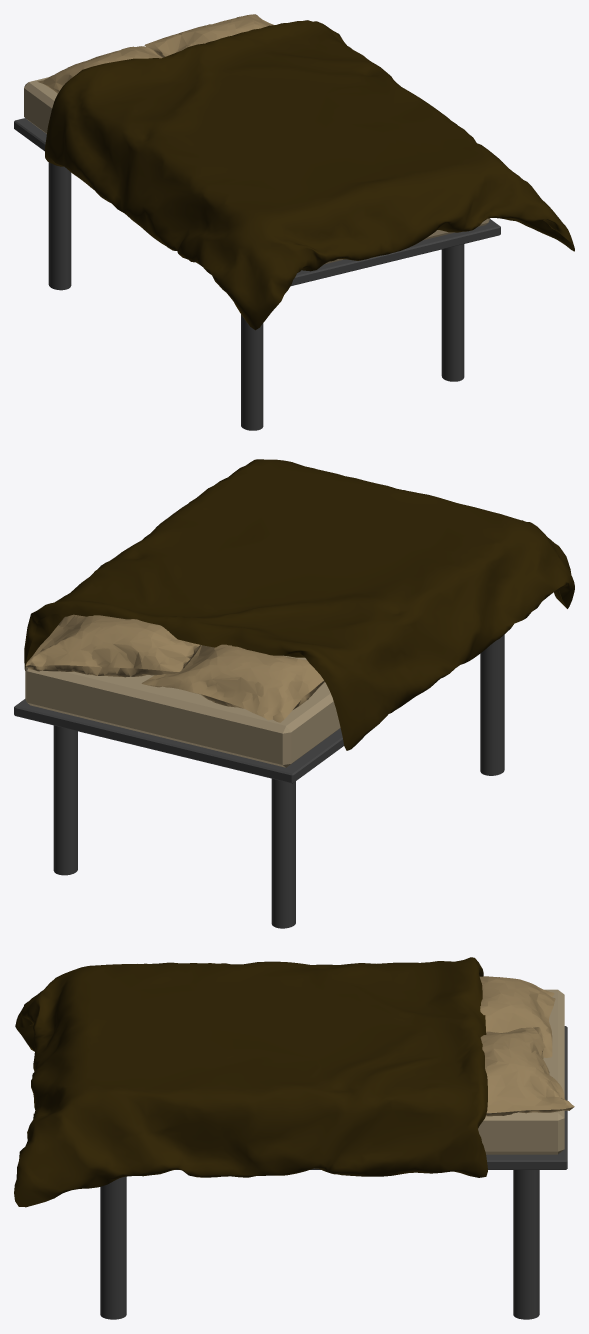
File: bed.fbx
The picture shows the model from 3 angles, top to bottom: view 1: azimuth 30°, elevation 25°; view 2: azimuth 150°, elevation 25°; view 3: azimuth 270°, elevation 25°; orthographic projection. The views are drawn at different scales.
Visible parts, largest first — view 1: bed_cover:polySurface1, bed_frame:polySurface1, bed_pillows:polySurface1, bed_mattress:polySurface1; view 2: bed_cover:polySurface1, bed_frame:polySurface1, bed_pillows:polySurface1, bed_mattress:polySurface1; view 3: bed_cover:polySurface1, bed_frame:polySurface1, bed_pillows:polySurface1, bed_mattress:polySurface1.
Part boxes in pixels (x1,y1,x2,y2): bed_cover:polySurface1: (45,20,574,330); bed_frame:polySurface1: (14,118,500,430); bed_pillows:polySurface1: (37,14,274,93); bed_mattress:polySurface1: (24,77,489,264); bed_cover:polySurface1: (24,459,574,750); bed_frame:polySurface1: (14,634,504,928); bed_pillows:polySurface1: (25,614,324,722); bed_mattress:polySurface1: (25,655,340,767); bed_cover:polySurface1: (14,957,487,1207); bed_frame:polySurface1: (100,1026,567,1319); bed_pillows:polySurface1: (480,976,574,1116); bed_mattress:polySurface1: (478,989,564,1154).
Size of the model in its own units: 35.55 by 23.71 by 47.91.
